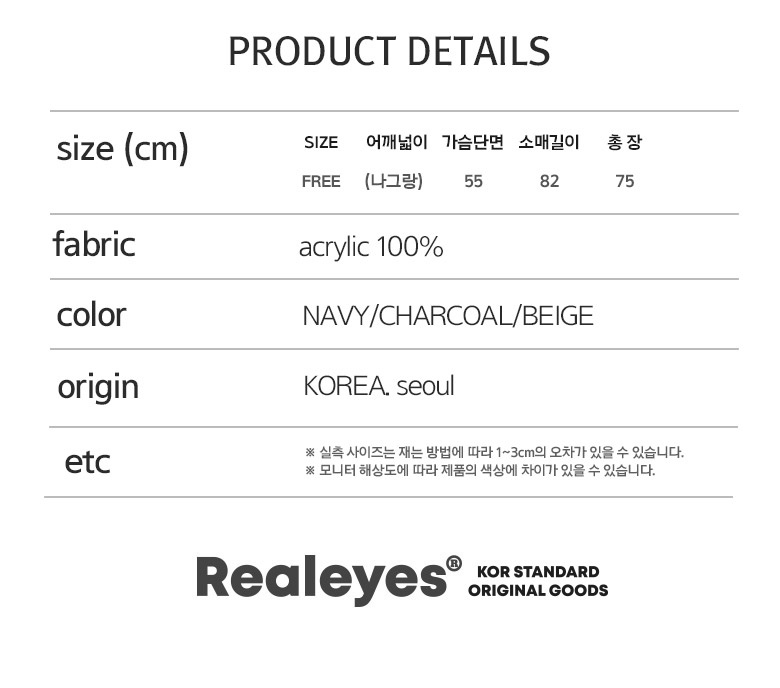table: (295, 125, 659, 203)
